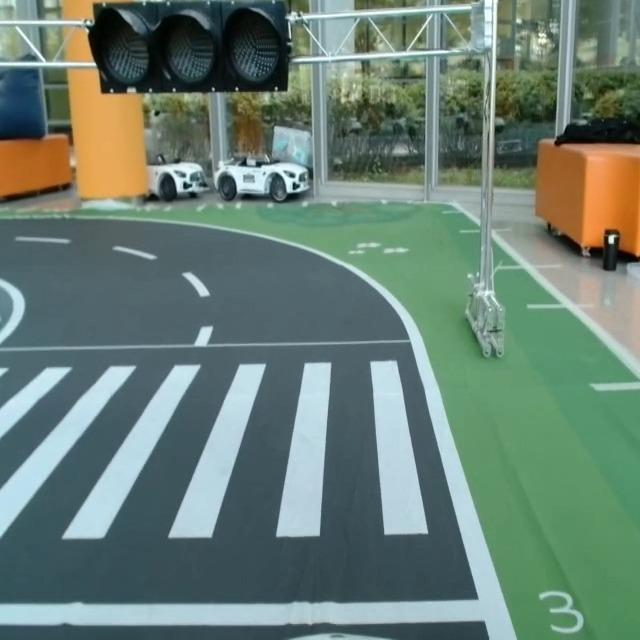traffic-light: (87, 0, 292, 95)
